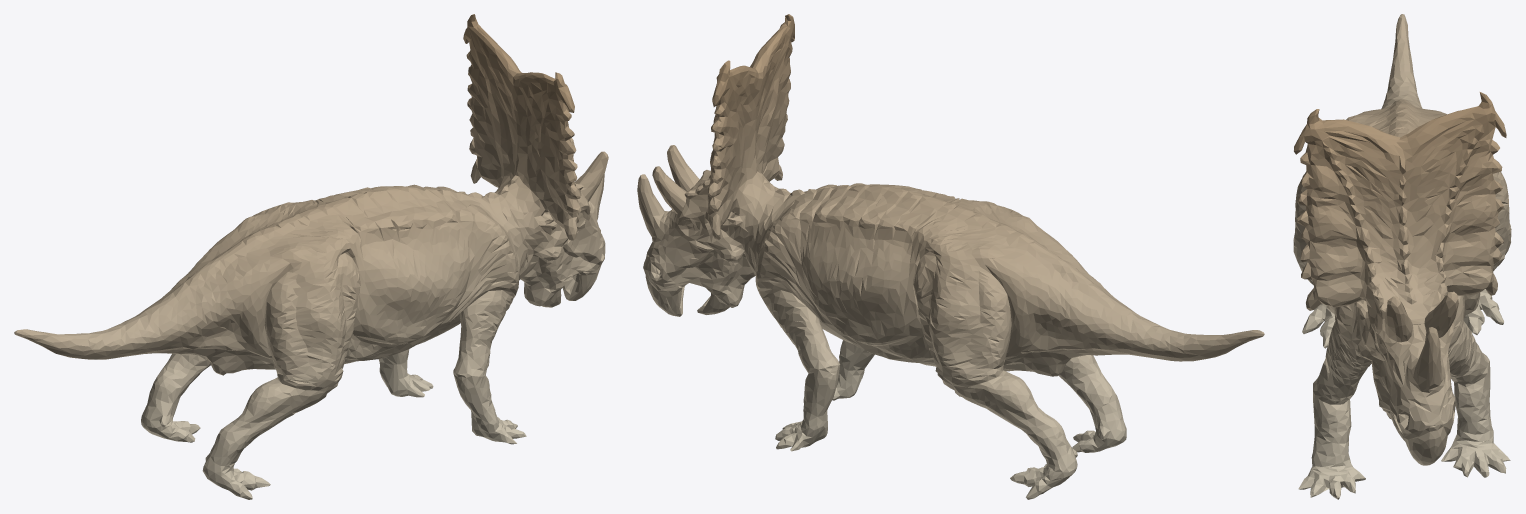
Rendered from chasmosaurus.glb.
3 renders of one model, left to right at view 1: azimuth 30°, elevation 25°; view 2: azimuth 150°, elevation 25°; view 3: azimuth 270°, elevation 25°, orthographic. The views are drawn at different scales.
Visible parts, largest first — view 1: world; view 2: world; view 3: world.
Part boxes in pixels (box(x1,y1,x2,y2)): world: box(14, 14, 608, 499); world: box(637, 14, 1264, 499); world: box(1293, 14, 1511, 499).
Bounding box in the file's own units: 12.98 × 7.53 × 3.54.
